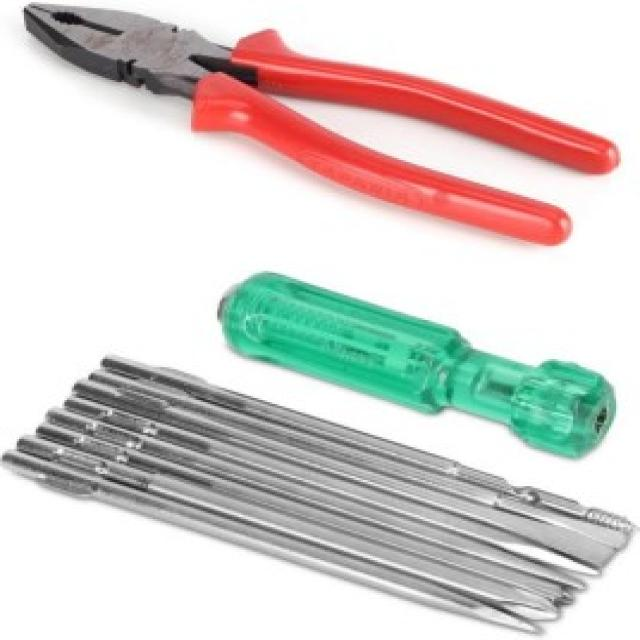Screwdriver: (218, 272, 616, 457)
